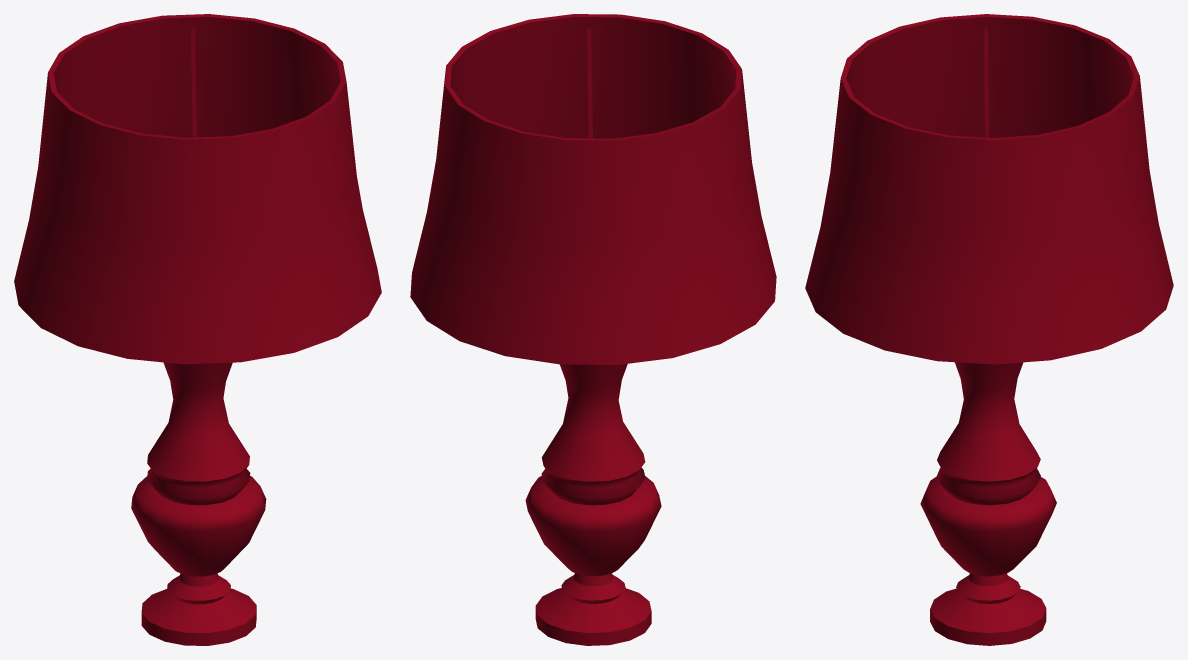
The model's file is lamp1.fbx.
3 renders of one model, left to right at view 1: azimuth 30°, elevation 25°; view 2: azimuth 150°, elevation 25°; view 3: azimuth 270°, elevation 25°, orthographic.
Visible parts, largest first — view 1: node_id9, node_id7, node_id5; view 2: node_id9, node_id7, node_id5; view 3: node_id9, node_id7, node_id5.
Boxes of the visible parts, x1,y1,x2,y2 form: node_id9: (14, 14, 381, 364); node_id7: (131, 362, 266, 645); node_id5: (190, 27, 196, 137); node_id9: (410, 14, 776, 364); node_id7: (525, 364, 661, 645); node_id5: (587, 27, 592, 138); node_id9: (805, 14, 1173, 364); node_id7: (920, 362, 1056, 645); node_id5: (983, 25, 989, 137).
Size of the model in its own units: 0.3144 by 0.5127 by 0.3144.
3 materials, 3 textured.
